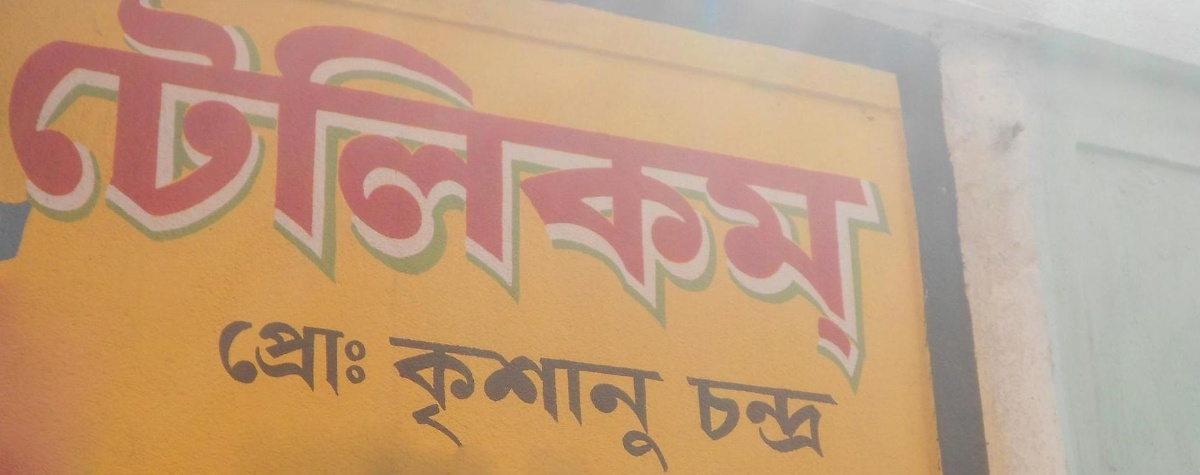text: (17, 3, 32, 403), (33, 3, 48, 403), (49, 3, 64, 403), (65, 3, 80, 403), (81, 3, 96, 403), (97, 3, 112, 403), (113, 3, 128, 403), (129, 3, 144, 403), (145, 3, 160, 403), (161, 3, 176, 403), (177, 3, 192, 403), (193, 3, 208, 403), (209, 3, 224, 403), (225, 3, 240, 403), (241, 3, 256, 403), (257, 3, 272, 403), (273, 3, 288, 403), (289, 3, 304, 403), (305, 3, 320, 403), (321, 3, 336, 403), (337, 3, 352, 403), (353, 3, 368, 403), (369, 3, 384, 403), (385, 3, 400, 403), (401, 3, 416, 403), (417, 3, 432, 403), (433, 3, 448, 403), (449, 3, 464, 403), (465, 3, 480, 403), (481, 3, 496, 403), (497, 3, 512, 403), (513, 3, 528, 403), (529, 3, 544, 403), (545, 3, 560, 403), (561, 3, 576, 403), (577, 3, 592, 403), (593, 3, 608, 403), (609, 3, 624, 403), (625, 3, 640, 403), (641, 3, 656, 403), (657, 3, 672, 403), (673, 3, 688, 403), (689, 3, 704, 403), (705, 3, 720, 403), (721, 3, 736, 403), (737, 3, 752, 403), (753, 3, 768, 403), (769, 3, 784, 403), (785, 3, 800, 403), (801, 3, 816, 403), (817, 3, 832, 403), (833, 3, 848, 403), (849, 3, 864, 403), (865, 3, 880, 403), (881, 3, 896, 403), (897, 3, 903, 403), (401, 334, 416, 474), (417, 334, 432, 474), (433, 334, 448, 474), (449, 334, 464, 474), (465, 334, 480, 474), (481, 334, 496, 474), (497, 334, 512, 474), (513, 334, 528, 474), (529, 334, 544, 474), (545, 334, 560, 474), (561, 334, 576, 474), (577, 334, 592, 474), (593, 334, 608, 474), (609, 334, 624, 474), (625, 334, 640, 474), (641, 334, 656, 474), (657, 334, 672, 474), (11, 3, 16, 403), (387, 334, 400, 474), (689, 373, 704, 460), (705, 373, 720, 460), (721, 373, 736, 460), (737, 373, 752, 460), (753, 373, 768, 460), (769, 373, 784, 460), (785, 373, 800, 460), (801, 373, 816, 460), (817, 373, 832, 460), (225, 313, 240, 398), (241, 313, 256, 398), (257, 313, 272, 398), (273, 313, 288, 398), (289, 313, 304, 398), (305, 313, 320, 398), (321, 313, 336, 398), (337, 313, 352, 398), (353, 313, 367, 398), (833, 373, 840, 460), (218, 313, 224, 398), (684, 373, 688, 460)
